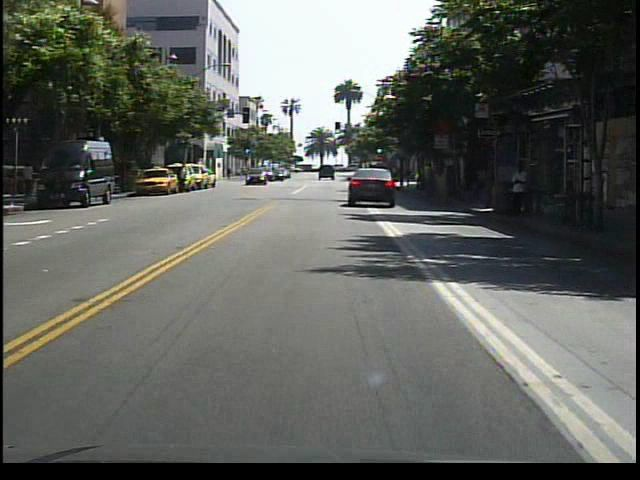person: (508, 155, 538, 222), (176, 161, 192, 197)
